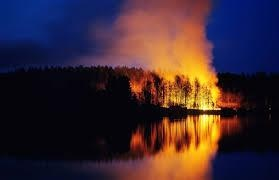fire: (122, 20, 225, 108)
